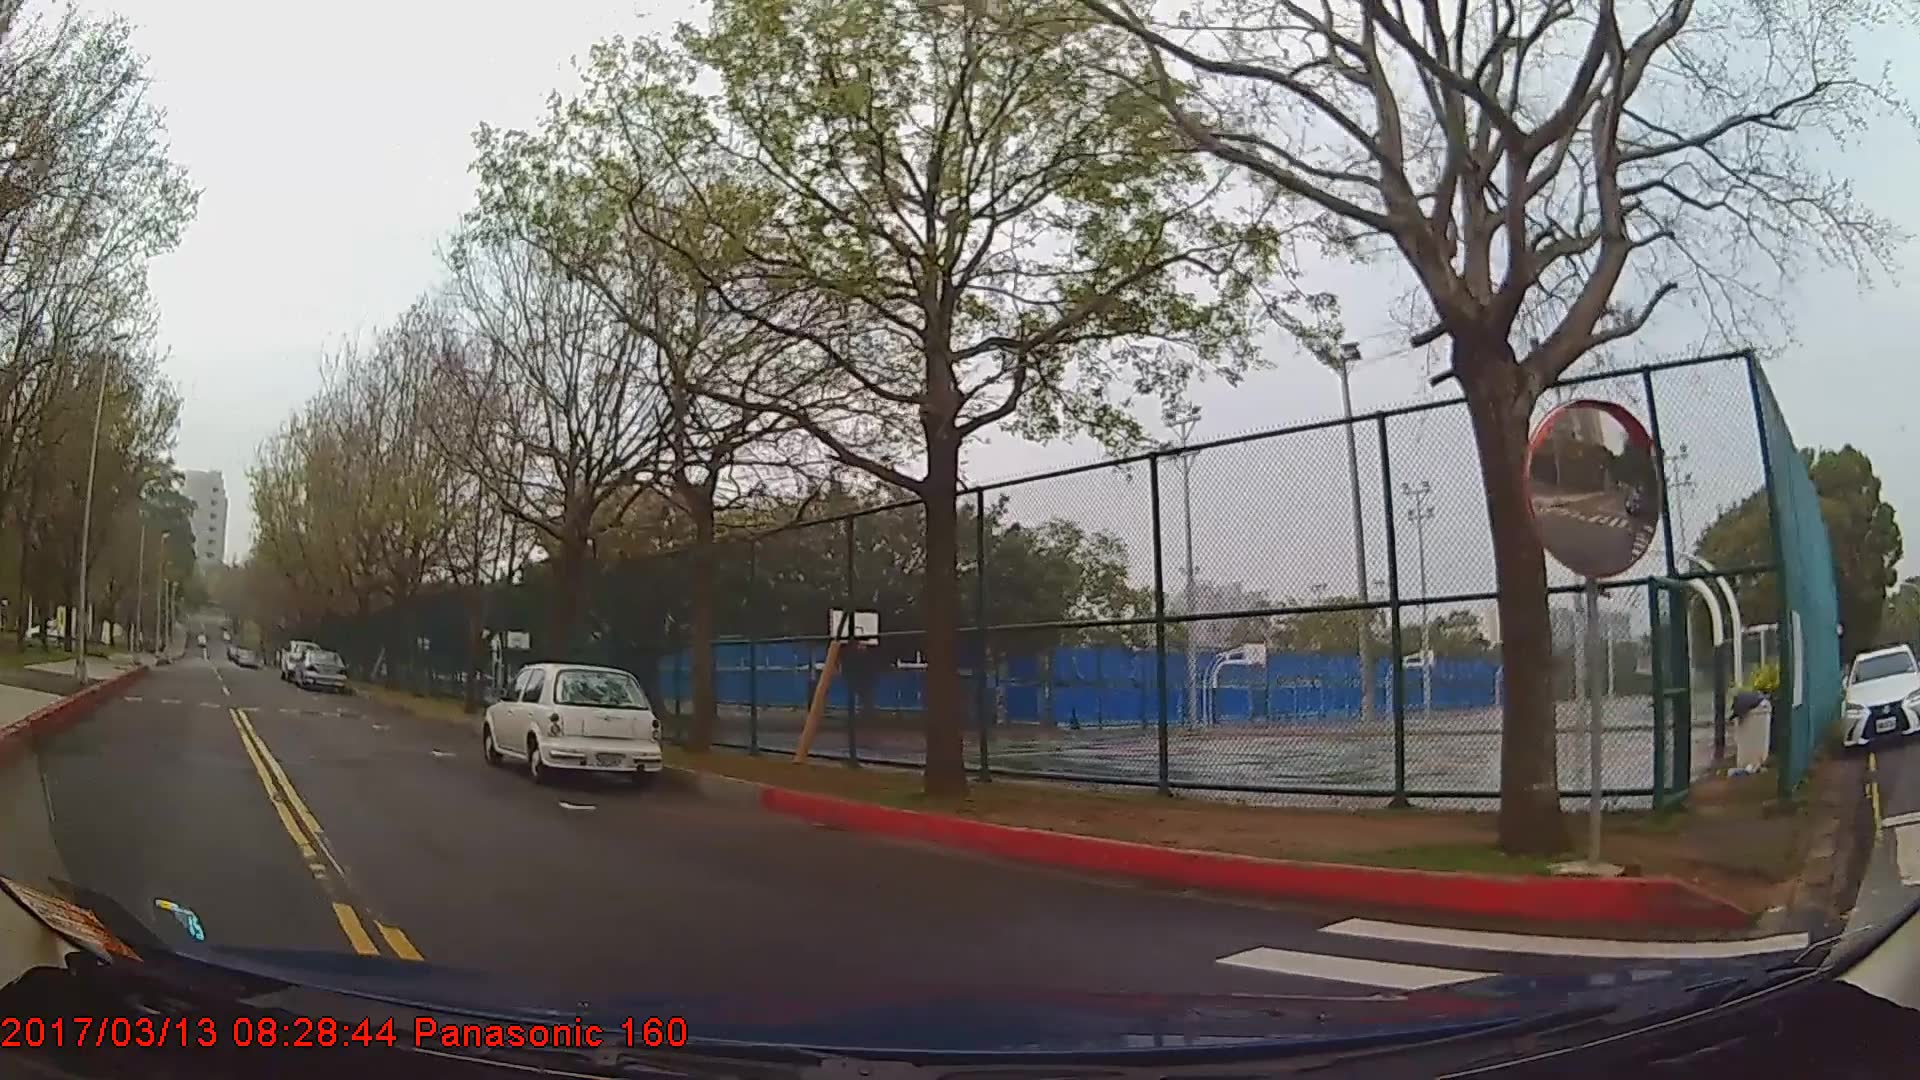vehicle: (483, 662, 662, 781), (1840, 641, 1919, 749), (294, 647, 347, 690)
